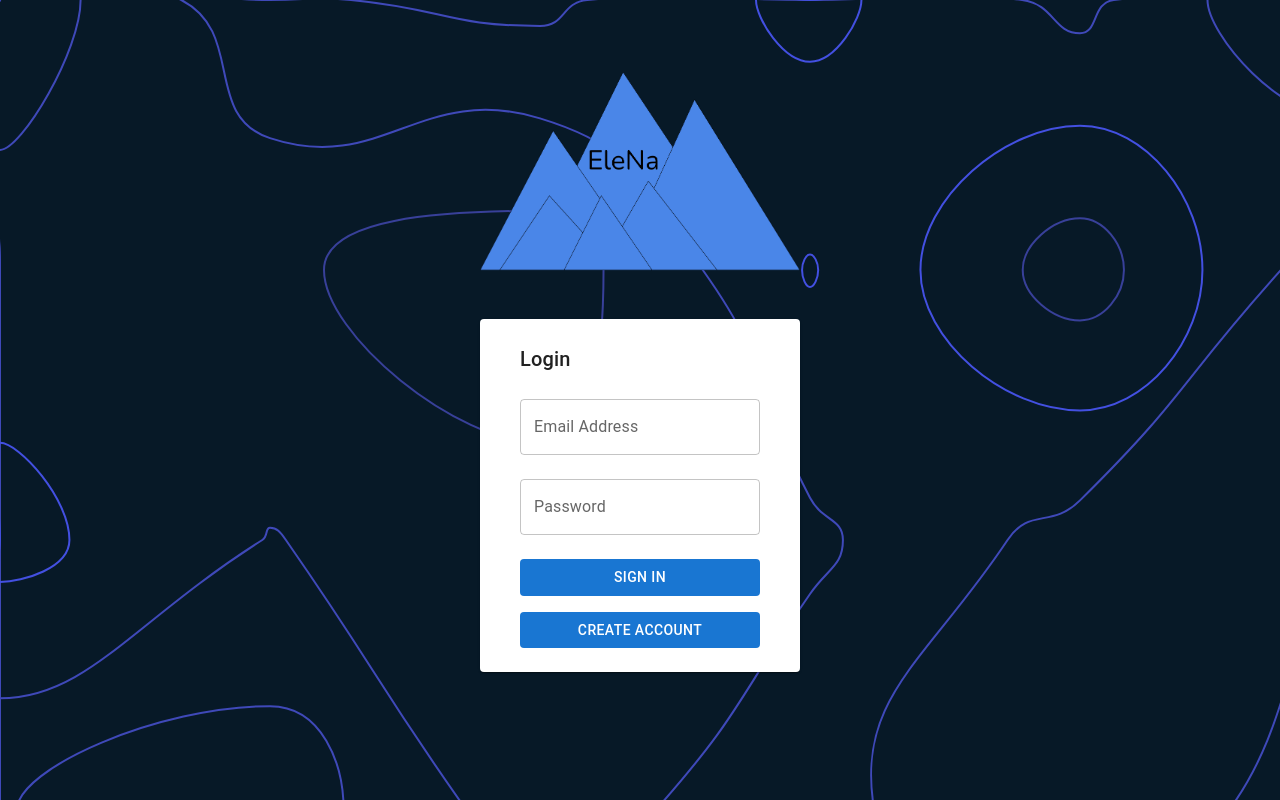
Test: Authentication › should show error on login with no username or password
Click the button with test id "loginButton".
click(640, 578)  # box x1=520 y1=559 x2=760 y2=596
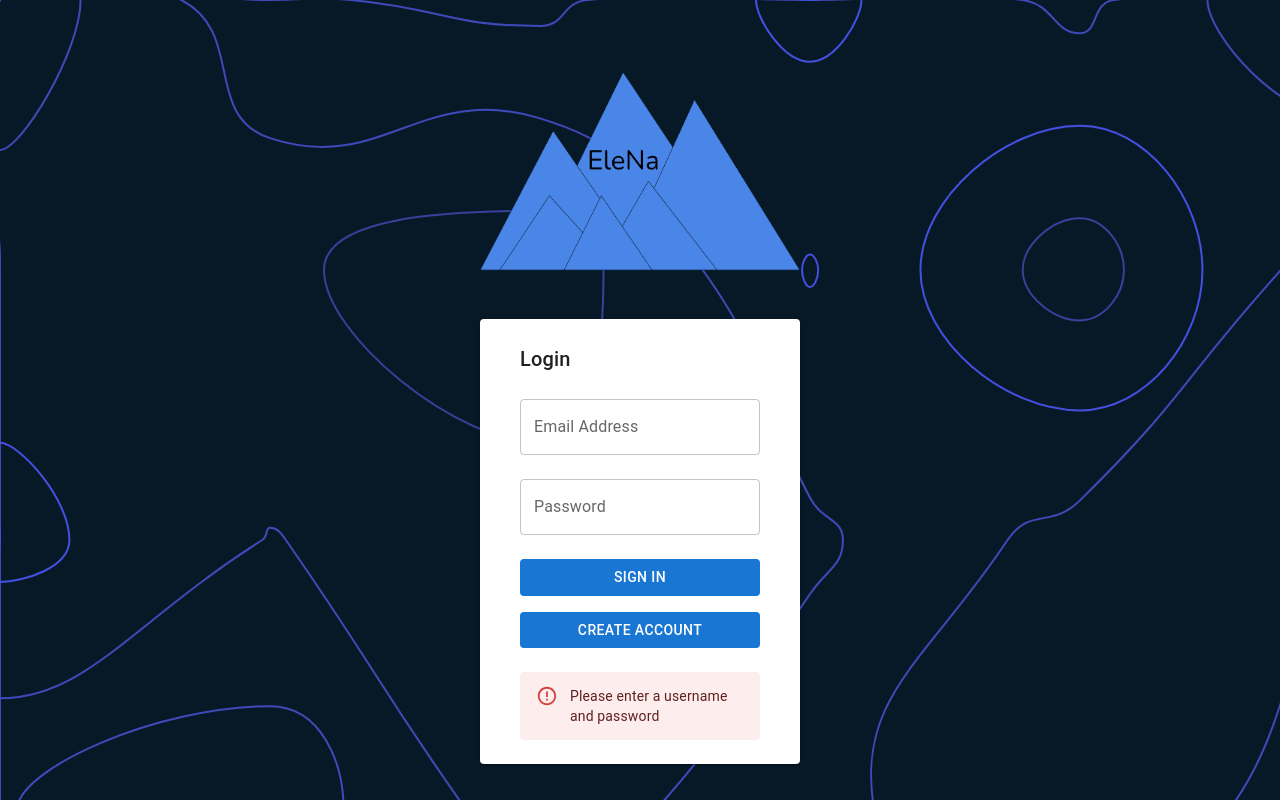
Expected: the message "Please enter a username and password" is shown, x1=520 y1=672 x2=760 y2=740
